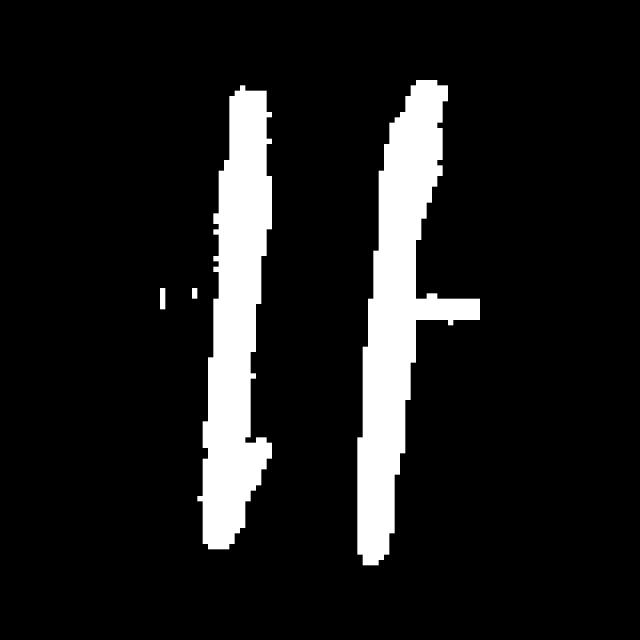capacitor: (190, 69, 452, 577)
